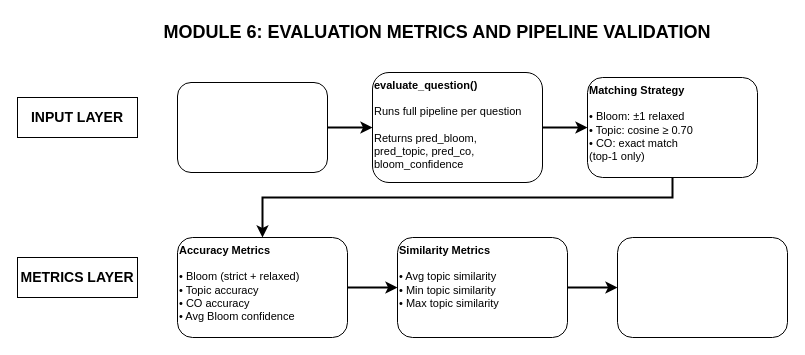
This 805x355 diagram has some shape labels left out. Here are the shapes that lost their labels. From the top down, the box of each, then its label:
(176, 82, 328, 172): Labeled Dataset • question • true_bloom • true_topic • true_co
(616, 236, 788, 338): Output UI: 4 metric cards + per-question table CLI: evaluate_metrics.py
